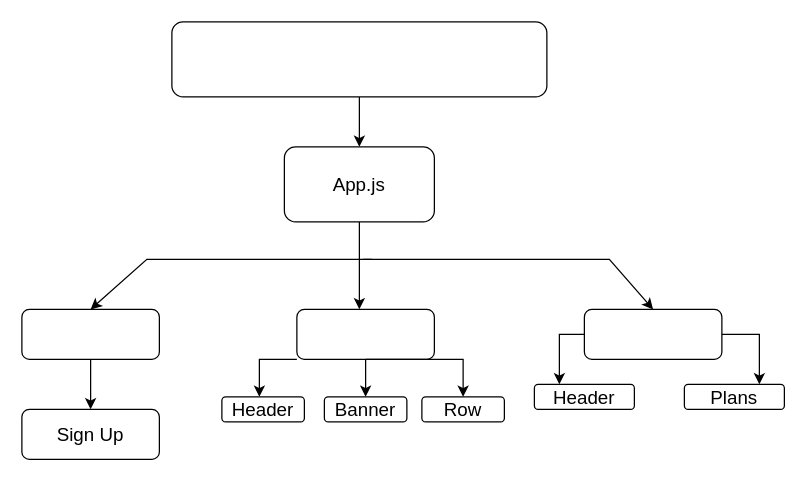
The diagram is 806 pixels wide and 481 high, and some of its shapes have lost their labels. The shapes that lost their labels are listed below. From the top down, each one's centre as x and y in pixels, then its label:
At pixel 359 59: "Ominous".
At pixel 90 333: "Login".
At pixel 365 333: "Home".
At pixel 652 333: "Profile".
